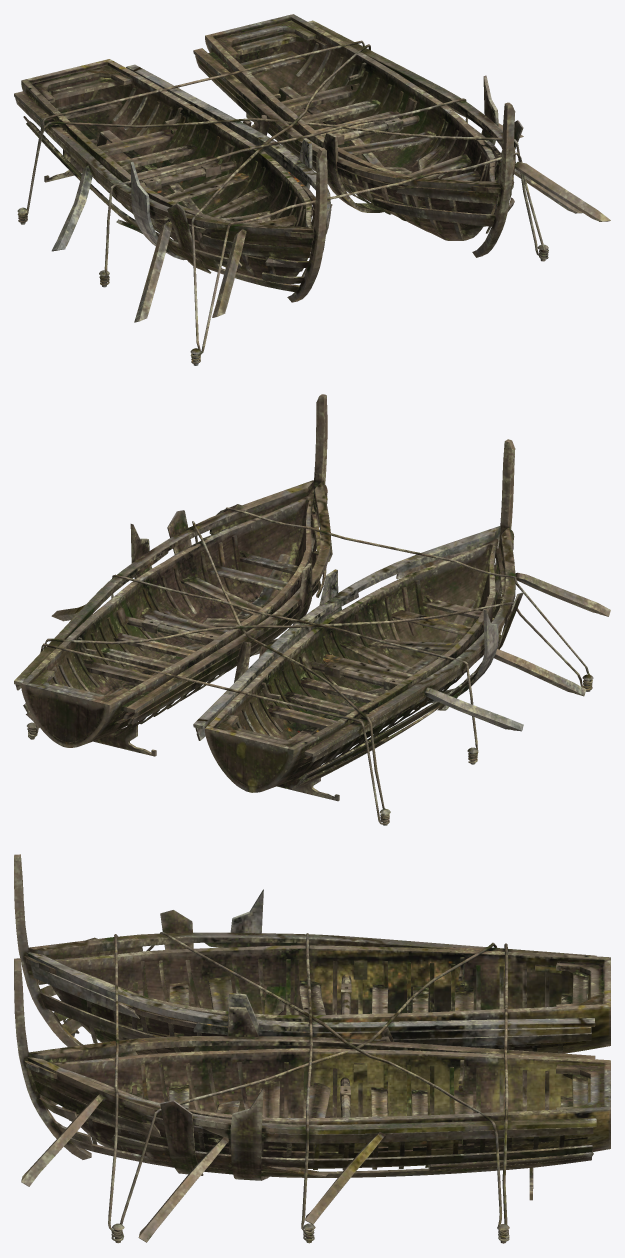
File: Pirate Boat.fbx
The picture shows the model from 3 angles, top to bottom: view 1: azimuth 30°, elevation 25°; view 2: azimuth 150°, elevation 25°; view 3: azimuth 270°, elevation 25°; orthographic projection. The views are drawn at different scales.
Visible parts, largest first — view 1: XI_DPS_Boat.Shape; view 2: XI_DPS_Boat.Shape; view 3: XI_DPS_Boat.Shape.
Part boxes in pixels (x1,y1,x2,y2): XI_DPS_Boat.Shape: (14,14,610,365); XI_DPS_Boat.Shape: (14,394,610,825); XI_DPS_Boat.Shape: (14,854,610,1243).
Size of the model in its own units: 670 by 283 by 640.
Materials: 1 (1 with a texture image).
